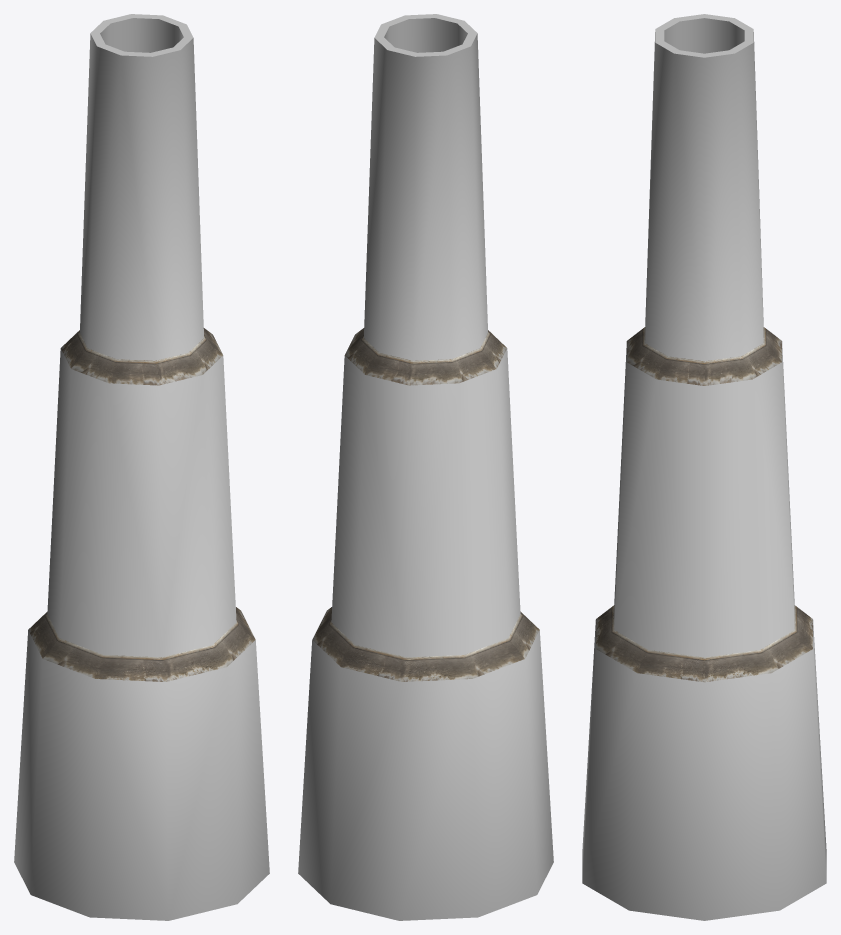
File: smoke_pipe_lod1.fbx
The picture shows the model from 3 angles, left to right: view 1: azimuth 30°, elevation 25°; view 2: azimuth 150°, elevation 25°; view 3: azimuth 270°, elevation 25°; orthographic projection.
Visible parts, largest first — view 1: Mesh Object; view 2: Mesh Object; view 3: Mesh Object.
Part boxes in pixels (x1,y1,x2,y2): Mesh Object: [14, 14, 269, 920]; Mesh Object: [298, 14, 553, 920]; Mesh Object: [582, 14, 826, 920].
Size of the model in its own units: 9.1 by 32.5 by 8.65.
